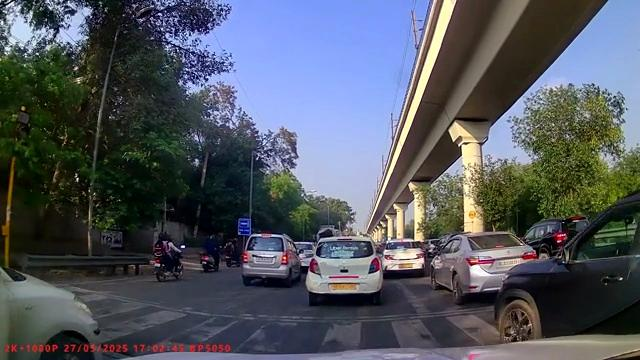motorcycle_with_helmet: (151, 230, 185, 282), (199, 233, 221, 273)
